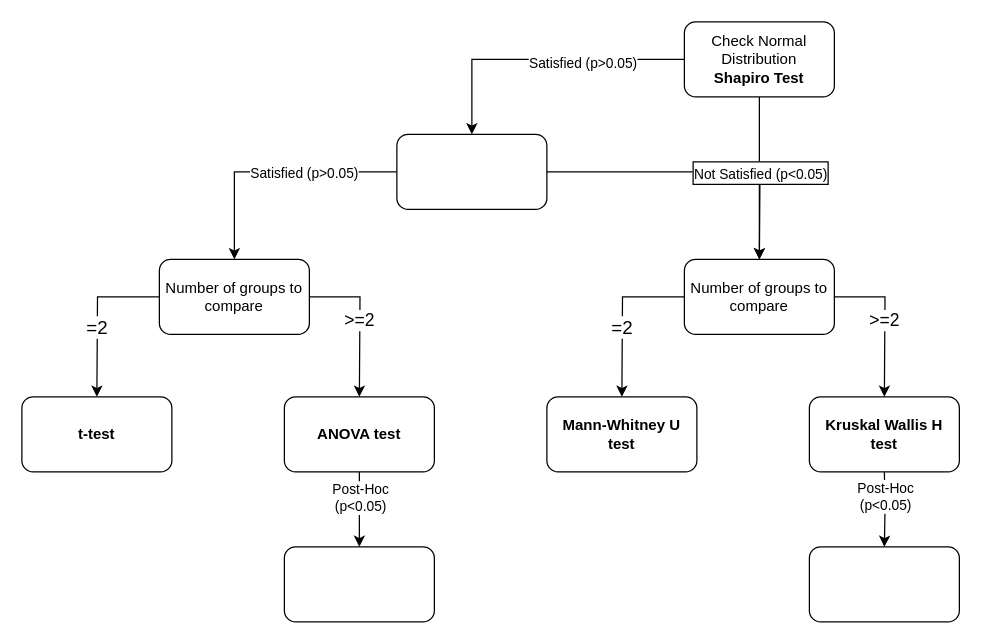
Image size: 981x644. Some labels were removed from this diagram. Each missing label, with the centre of its shape:
Check Homogeneity of Variances Levene Test: (x=471, y=171)
Dunn test: (x=883, y=584)
Tukey hsd test: (x=358, y=584)
